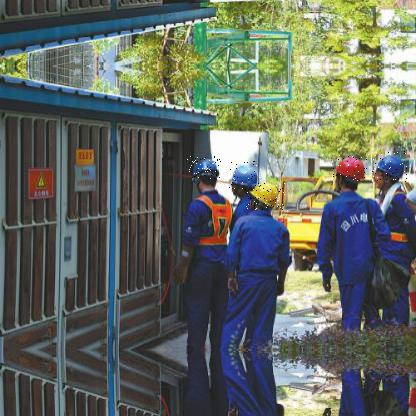safetyhelmet: (372, 151, 410, 183), (245, 183, 287, 211), (332, 154, 368, 184), (229, 160, 263, 190), (187, 156, 222, 180)
